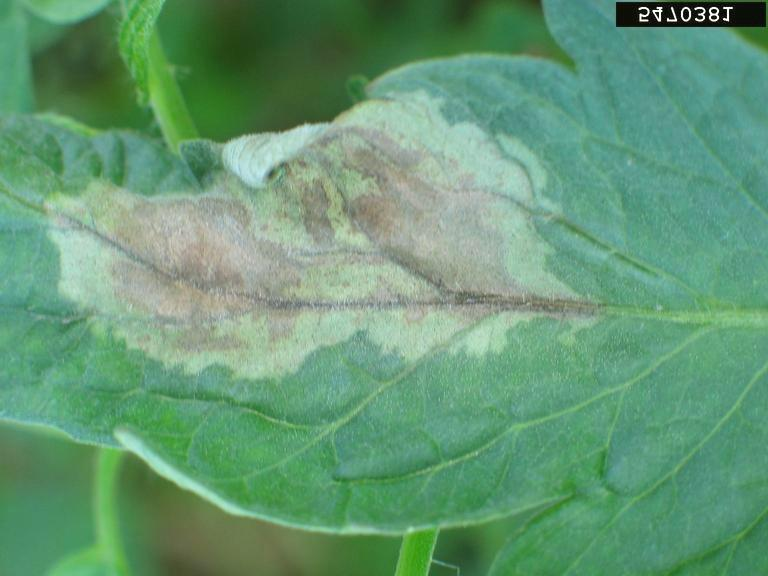Tomato leaf late blight: (6, 44, 768, 540)
